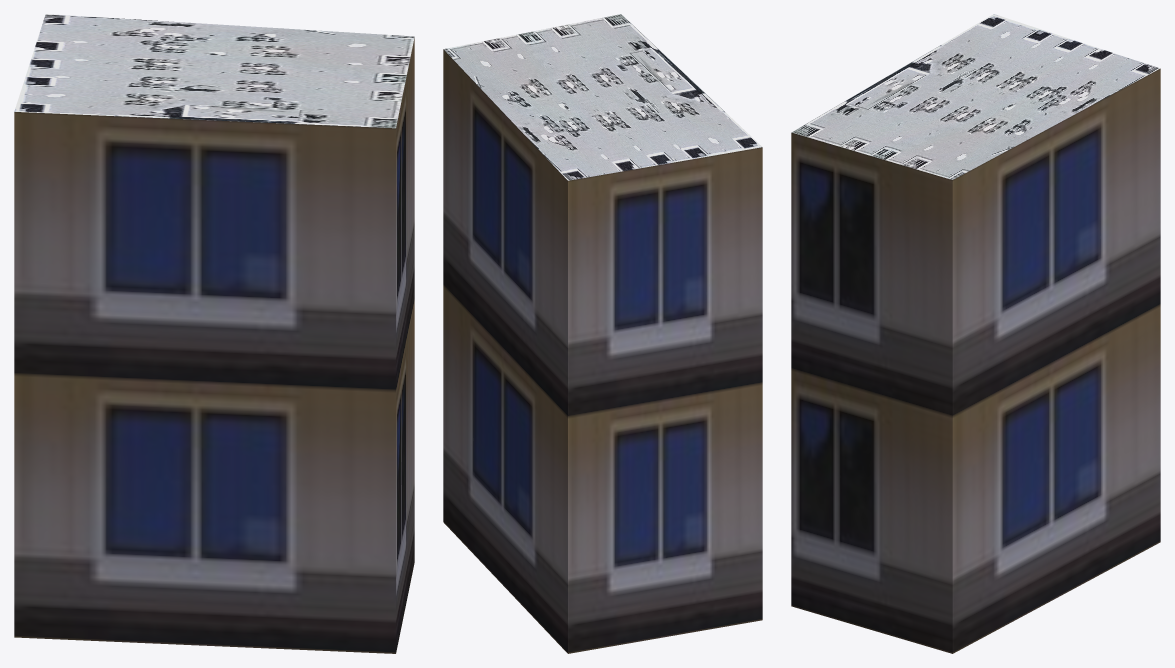
File: ResTex__1407.fbx
3 renders of one model, left to right at view 1: azimuth 30°, elevation 25°; view 2: azimuth 150°, elevation 25°; view 3: azimuth 270°, elevation 25°, orthographic. The views are drawn at different scales.
Visible parts, largest first — view 1: CityEngineMaterial_5_m, CityEngineMaterial_m; view 2: CityEngineMaterial_5_m, CityEngineMaterial_m; view 3: CityEngineMaterial_5_m, CityEngineMaterial_m.
Part boxes in pixels (<box>): CityEngineMaterial_5_m: <box>14,38,414,653</box>; CityEngineMaterial_m: <box>14,14,414,128</box>; CityEngineMaterial_5_m: <box>443,49,762,653</box>; CityEngineMaterial_m: <box>443,14,762,180</box>; CityEngineMaterial_5_m: <box>791,68,1160,653</box>; CityEngineMaterial_m: <box>791,14,1160,179</box>.
Size of the model in its own units: 4.51 by 6 by 4.24.
2 materials, 2 textured.
